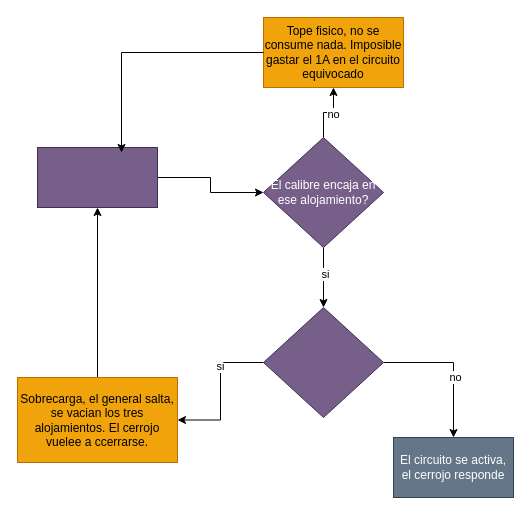
Image size: 531x515. Some labels were removed from this diagram. Here are the shapes that lost their labels. From the top down, the centre of each, then its label:
the point at 97,177: El jugador coloca un fusible en un alojamiento
the point at 323,362: Quedan mas de 2 circuitos activos
